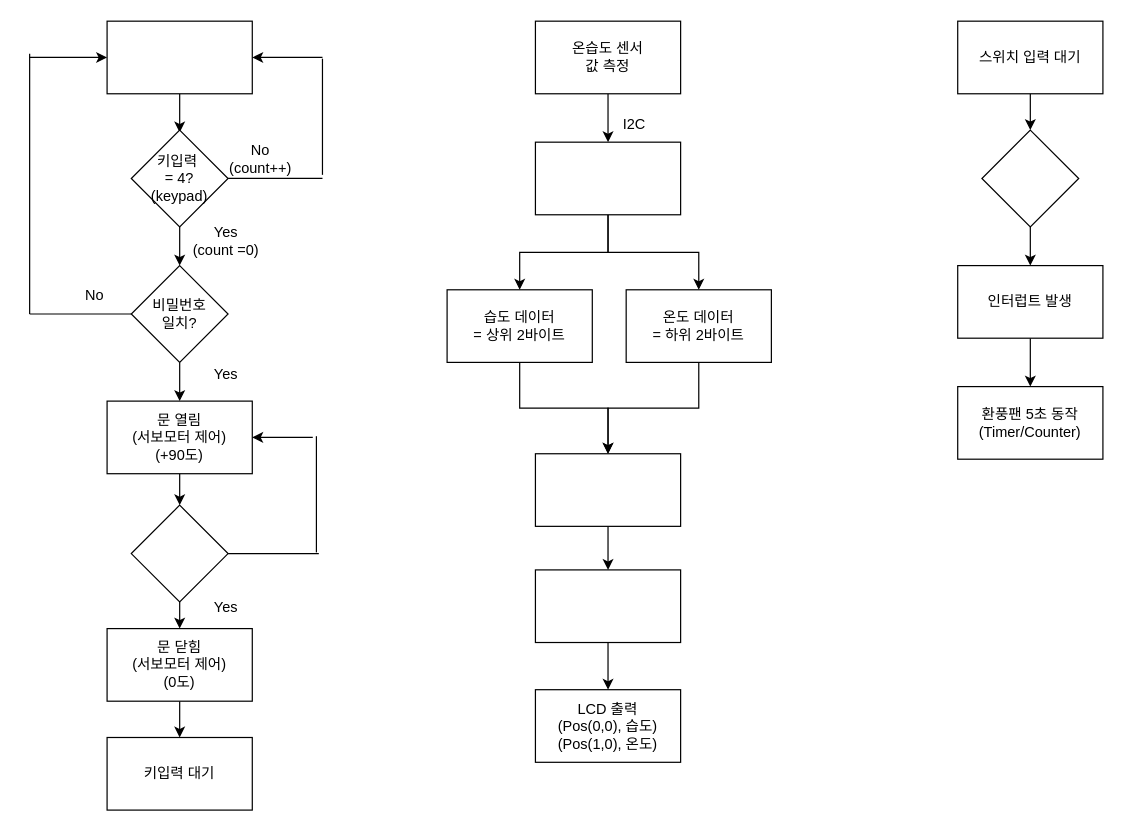
Some shapes in this 1124 by 831 pixel diagram are drawn without their labels. Here are the shapes that lost their labels. From the top down, the centre of each, then its label:
At (179,57): "키 입력 대기 (count) (서보모터 0도)".
At (607,178): "4바이트 데이터 값 취득".
At (1030,178): "스위치 On?".
At (607,489): "돈케어 처리".
At (179,553): "문 닫힘? (초음파 센서)".
At (607,606): "실제값으로 변환".
